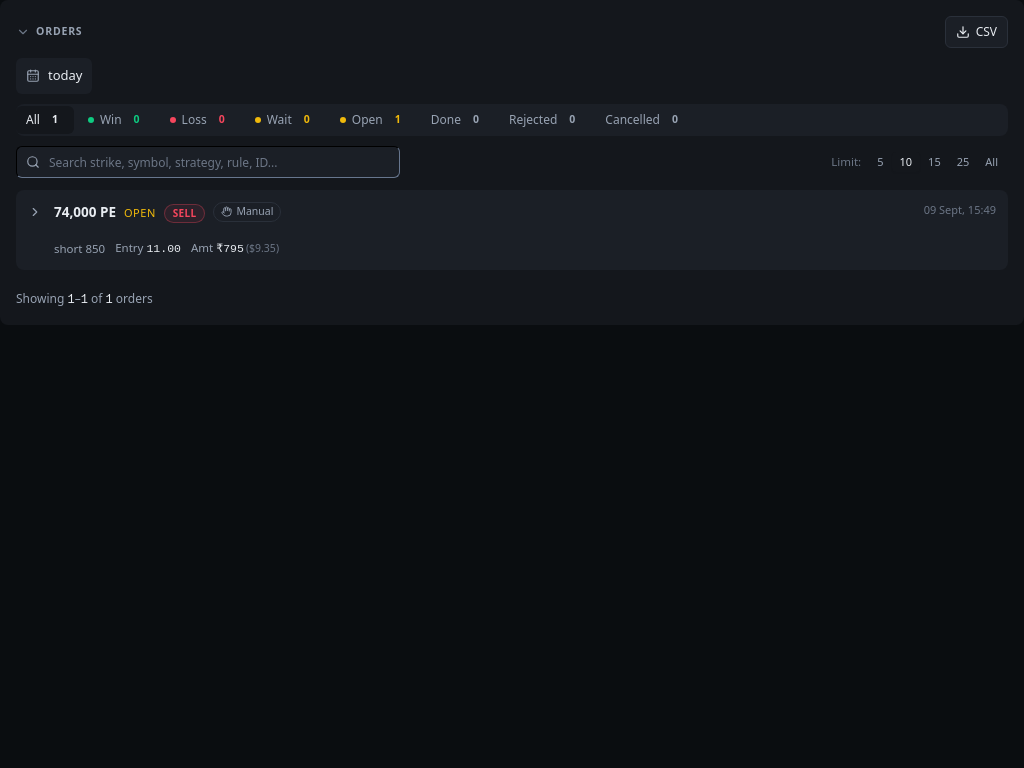
Test: a trade that was added to › [critical] is still one row, and its fill log tells the entry from the add
Click the text "74,000 PE" at (85, 213), box [54,202,116,223]
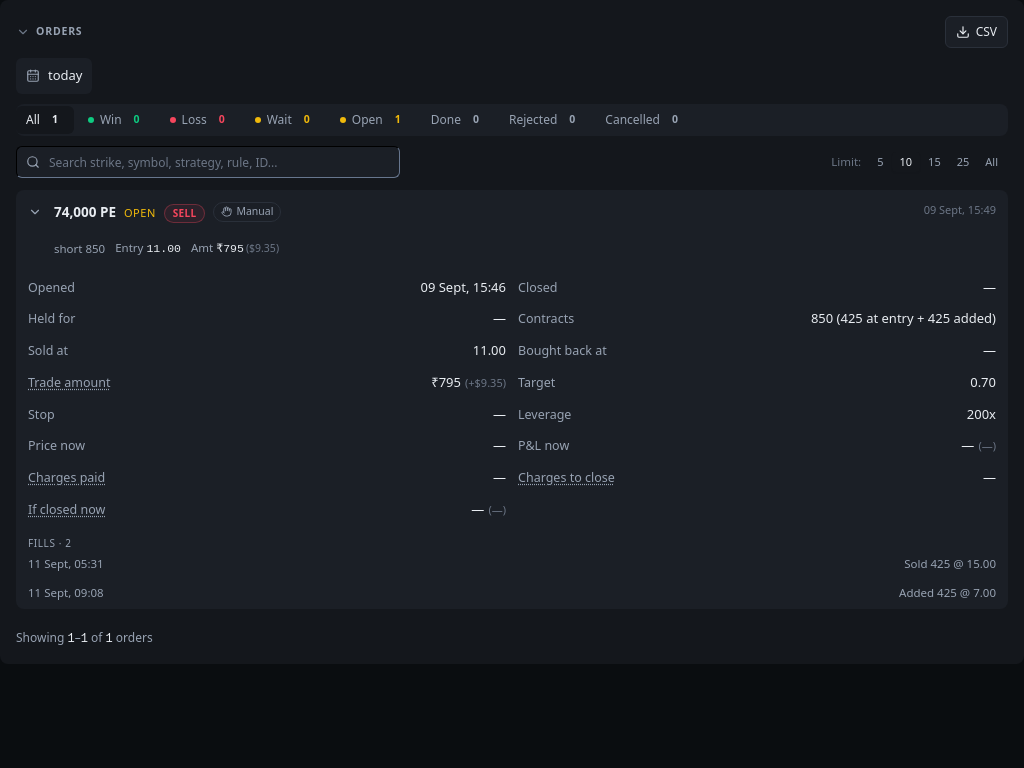
Expected: the text "850 (425 at entry + 425 added)" is shown, [811,309,996,329]
Expected: the text "Sold 425 @ 15.00" is shown, [904,555,996,572]
Expected: the text "Added 425 @ 7.00" is shown, [899,584,996,601]
